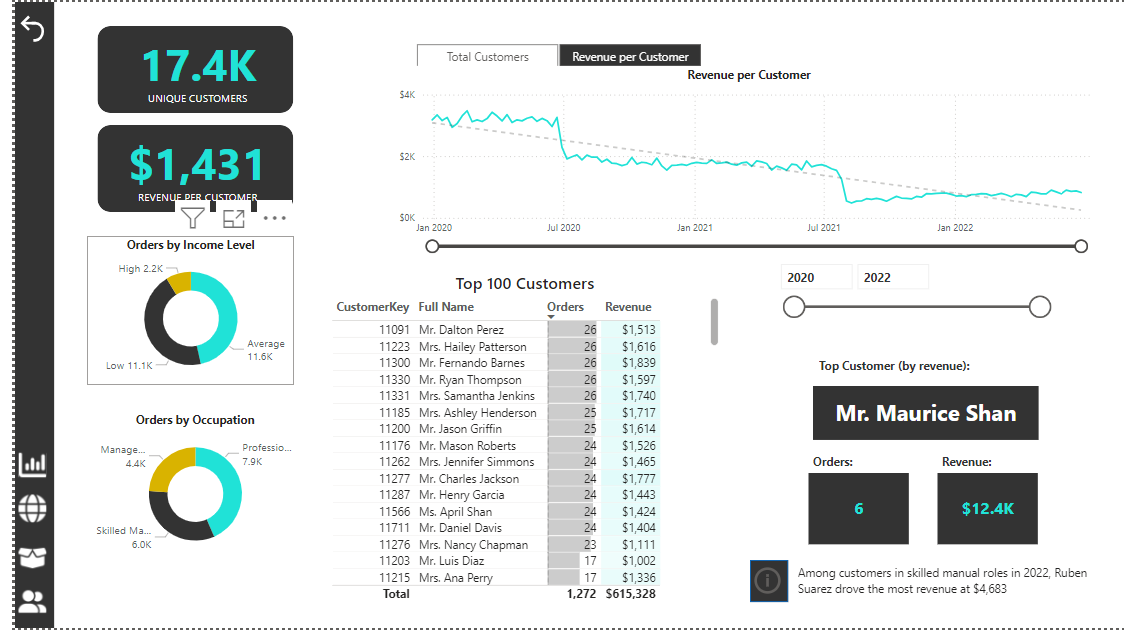

The dashboard page shown, as its layout file describes it:
{"tool":"powerbi","page":{"name":"Customer Detail","canvas":[1280,720],"ordinal":3},"visuals":[{"type":"shape","box":[0,0,45,720],"z":0},{"type":"actionButton","box":[0,512.2,44.8,40.3],"z":0,"group":"g3"},{"type":"shape","box":[95,27.5,225,100],"z":1000,"group":"g2"},{"type":"group","id":"g1","title":"Group 1","box":[95.5,114.5,230,153.6],"z":1000},{"type":"actionButton","box":[0,562.3,44.8,40.3],"z":1000,"group":"g3"},{"type":"group","id":"g2","title":"Group 2","box":[95,0,230,153.8],"z":2000},{"type":"shape","box":[95.5,142,225,100],"z":2000,"group":"g1"},{"type":"actionButton","box":[0,619.7,44.8,40.3],"z":2000,"group":"g3"},{"type":"card","fields":{"Values":["Measure Table.Total Customers"]},"box":[95,0,230,153.8],"z":3000,"group":"g2"},{"type":"lineChart","fields":{"Y":["Measure Table.Average Revenue per Customer"],"Category":["Calendar Lookup.Date Hierarchy.Start of Year","Calendar Lookup.Date Hierarchy.Start of Month","Calendar Lookup.Date Hierarchy.Start of Week","Calendar Lookup.Date Hierarchy.Date"]},"box":[437,74.3,814.9,217.6],"z":3000},{"type":"actionButton","box":[0,668.9,44.8,40.3],"z":3000,"group":"g3"},{"type":"card","fields":{"Values":["Measure Table.Average Revenue per Customer"]},"box":[95.5,114.5,230,153.8],"z":4000,"group":"g1"},{"type":"donutChart","title":"Orders by Income Level","fields":{"Y":["Measure Table.Total Orders"],"Category":["Customer Lookup.Income Level"]},"box":[82.7,268.2,238.2,170.9],"z":4000},{"type":"donutChart","title":"Orders by Occupation","fields":{"Y":["Measure Table.Total Orders"],"Category":["Customer Lookup.Occupation"]},"box":[87.3,470.9,238.2,170.9],"z":5000},{"type":"tableEx","title":"Top 100 Customers","fields":{"Values":["Customer Lookup.CustomerKey","Customer Lookup.Full Name","Measure Table.Total Orders","Measure Table.Total Revenue"]},"box":[359.1,309.9,454.9,383.3],"z":6000},{"type":"card","fields":{"Values":["Measure Table.Full Name (Customer Detail)"]},"box":[916.5,440.6,259.1,61.8],"z":7000},{"type":"textbox","box":[919.3,403.3,206.4,37.3],"z":8000},{"type":"card","fields":{"Values":["Measure Table.Total Orders (Customer Detail)"]},"box":[912,540.6,115.5,81.8],"z":9000},{"type":"card","fields":{"Values":["Measure Table.Total Revenue (Customer Detail)"]},"box":[1060.2,540.6,115.5,81.8],"z":10000},{"type":"textbox","box":[1060.5,514.6,82.2,36.7],"z":11000},{"type":"textbox","box":[912,514.2,148.2,37.3],"z":12000},{"type":"slicer","fields":{"Values":["Calendar Lookup.Year"]},"box":[866.9,291.9,332.2,92.2],"z":13000},{"type":"shape","box":[844.5,642.1,43.9,48.4],"z":14000},{"type":"actionButton","box":[844.5,645.7,43.9,40.3],"z":15000},{"type":"textbox","box":[895.5,642.1,360,51],"z":16000},{"type":"actionButton","box":[0,9.9,44.8,40.3],"z":17000},{"type":"group","id":"g3","title":"Navigation Buttons","box":[0,512.2,44.8,197],"z":18000},{"type":"slicer","fields":{"Values":["Customer Metric Selection.Customer Metric Selection"]},"box":[437,42.1,376.1,32.2],"z":19000}]}

Visuals, with their boxes on the page's 1280x720 design canvas (x1, y1, x2, y2). These are canvas units, not pixel positions in the 1124x630 screenshot, which may show the page scaled, cropped or inside an application window:
shape: 0, 0, 45, 720
actionButton: 0, 512, 45, 552
shape: 95, 28, 320, 128
"Group 1" group: 96, 114, 326, 268
actionButton: 0, 562, 45, 603
"Group 2" group: 95, 0, 325, 154
shape: 96, 142, 320, 242
actionButton: 0, 620, 45, 660
card - Measure Table.Total Customers: 95, 0, 325, 154
lineChart - Measure Table.Average Revenue per Customer x Calendar Lookup.Date Hierarchy.Start of Year: 437, 74, 1252, 292
actionButton: 0, 669, 45, 709
card - Measure Table.Average Revenue per Customer: 96, 114, 326, 268
"Orders by Income Level" donutChart: 83, 268, 321, 439
"Orders by Occupation" donutChart: 87, 471, 326, 642
"Top 100 Customers" tableEx: 359, 310, 814, 693
card - Measure Table.Full Name (Customer Detail): 916, 441, 1176, 502
textbox: 919, 403, 1126, 441
card - Measure Table.Total Orders (Customer Detail): 912, 541, 1028, 622
card - Measure Table.Total Revenue (Customer Detail): 1060, 541, 1176, 622
textbox: 1060, 515, 1143, 551
textbox: 912, 514, 1060, 552
slicer - Calendar Lookup.Year: 867, 292, 1199, 384
shape: 844, 642, 888, 690
actionButton: 844, 646, 888, 686
textbox: 896, 642, 1256, 693
actionButton: 0, 10, 45, 50
"Navigation Buttons" group: 0, 512, 45, 709
slicer - Customer Metric Selection.Customer Metric Selection: 437, 42, 813, 74
